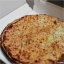pizza: (1, 16, 64, 64)
